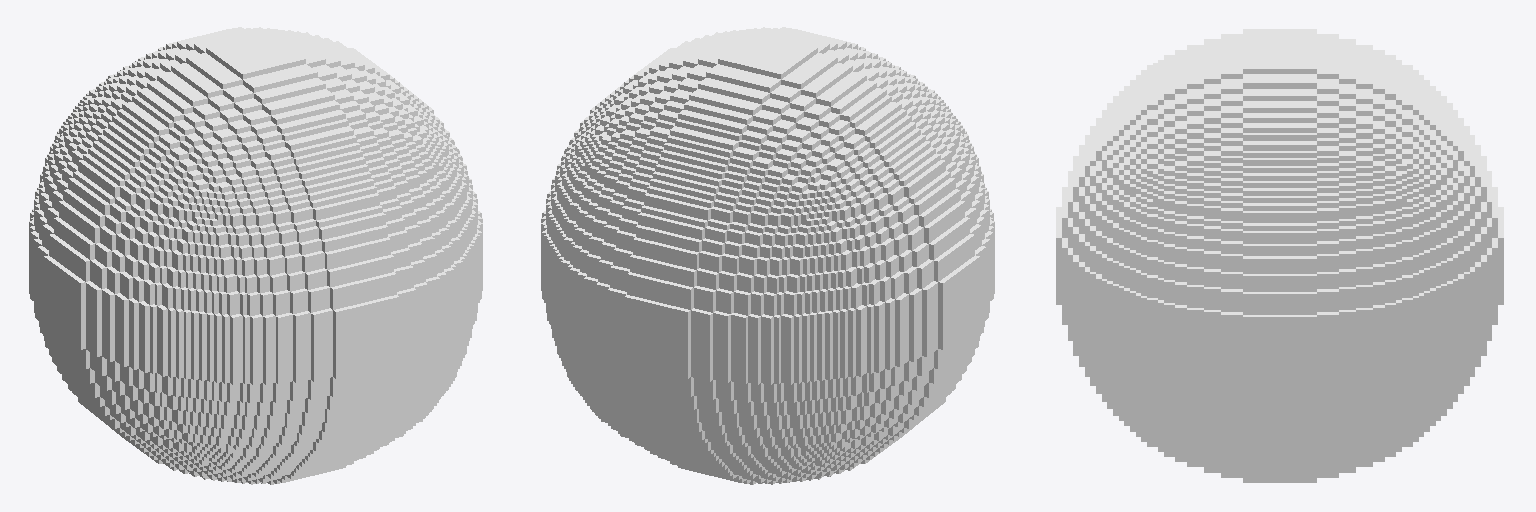
File: Worldbase.obj
The picture shows the model from 3 angles: view 1: azimuth 30°, elevation 25°; view 2: azimuth 150°, elevation 25°; view 3: azimuth 270°, elevation 25°; orthographic projection.
Size of the model in its own units: 79 by 79 by 79.